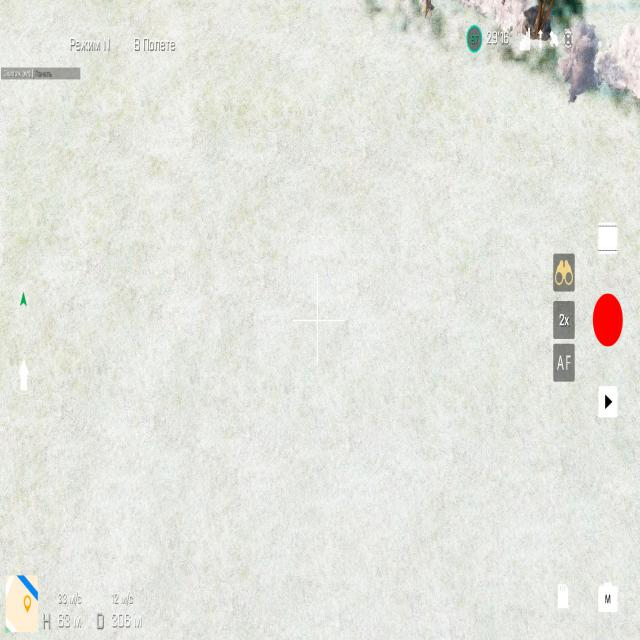fortification: (518, 0, 557, 72)
